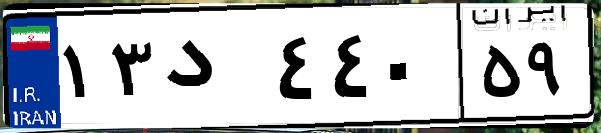0: (385, 28, 445, 110)
1: (57, 26, 110, 100)
3: (110, 28, 158, 98)
4: (270, 28, 330, 110), (330, 28, 385, 110)
5: (475, 38, 525, 113)
9: (525, 38, 570, 115)
د: (158, 20, 270, 120)
